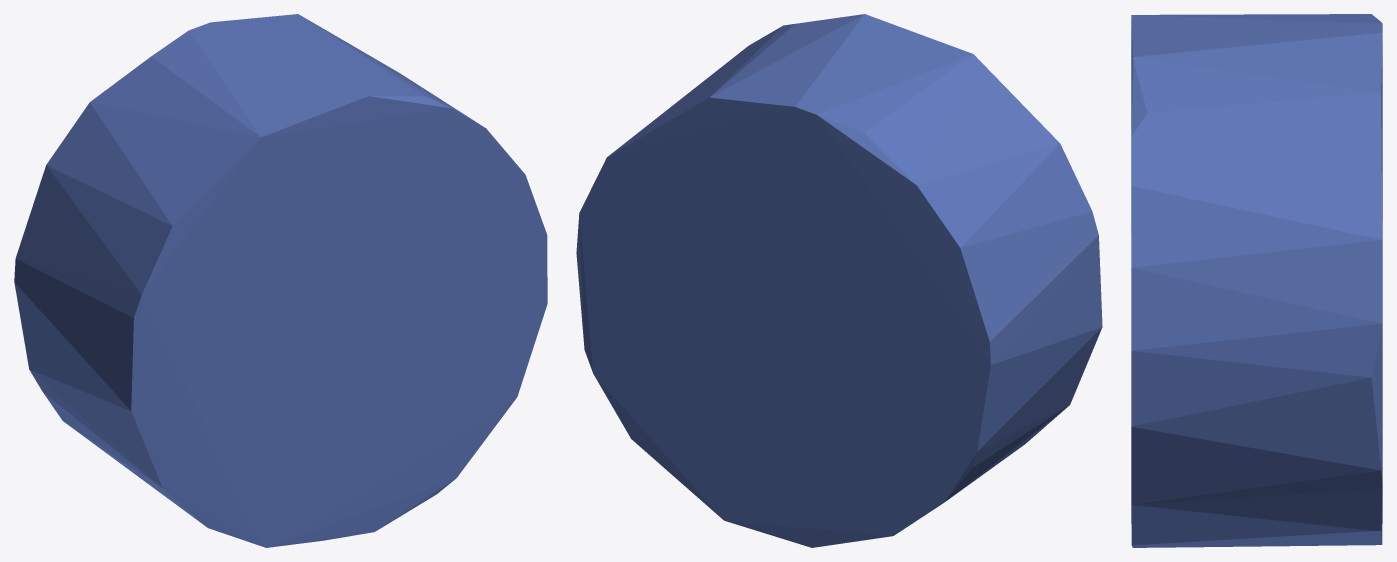
Rendered from food_processed_cannedFood_p01.glb.
The picture shows the model from 3 angles, left to right: view 1: azimuth 30°, elevation 25°; view 2: azimuth 150°, elevation 25°; view 3: azimuth 270°, elevation 25°; orthographic projection. The views are drawn at different scales.
Visible parts, largest first — view 1: geometry_0; view 2: geometry_0; view 3: geometry_0.
Part boxes in pixels (bbox=[...]): geometry_0: bbox=[14, 14, 547, 547]; geometry_0: bbox=[576, 14, 1102, 547]; geometry_0: bbox=[1131, 14, 1382, 547].
Size of the model in its own units: 0.4783 by 0.4788 by 0.2258.
